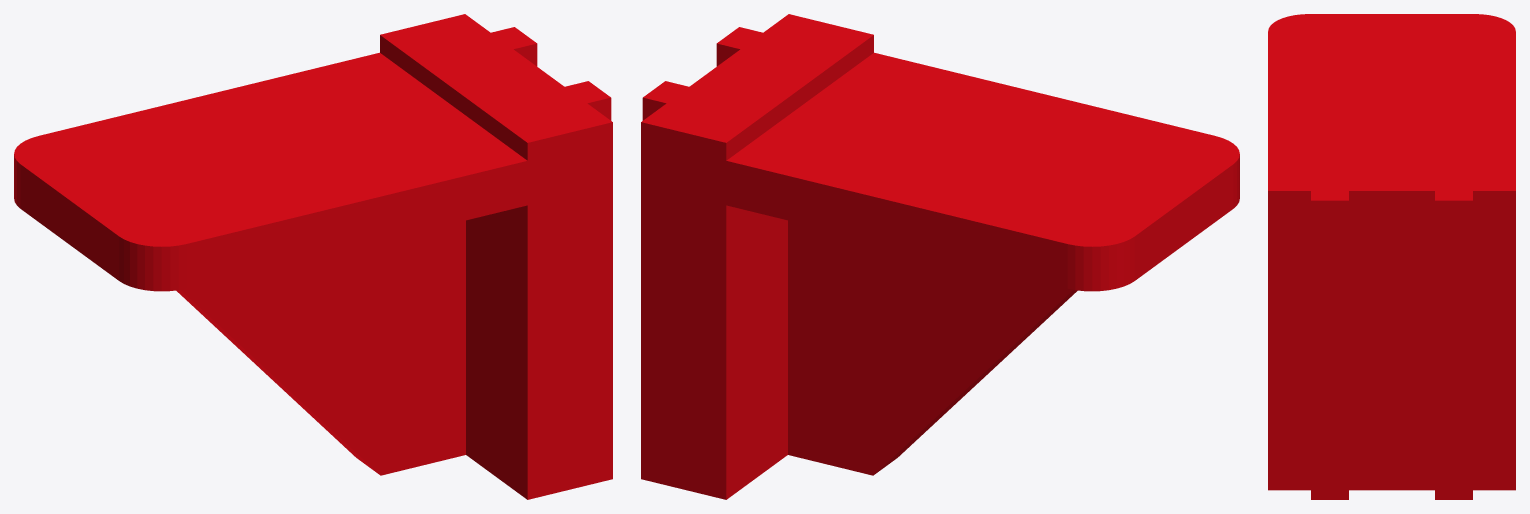
Rendered from Astorino_Robot_Gripper_Right.dae.
3 renders of one model, left to right at view 1: azimuth 30°, elevation 25°; view 2: azimuth 150°, elevation 25°; view 3: azimuth 270°, elevation 25°, orthographic. The views are drawn at different scales.
Parts seen in each view (by area): view 1: Astorino Robot Gripper Right; view 2: Astorino Robot Gripper Right; view 3: Astorino Robot Gripper Right.
Boxes of the visible parts, box(x1,y1,x2,y2) form: Astorino Robot Gripper Right: box(14, 14, 612, 499); Astorino Robot Gripper Right: box(641, 14, 1239, 499); Astorino Robot Gripper Right: box(1268, 14, 1515, 499).
Size of the model in its own units: 0.0578 by 0.03 by 0.04.
